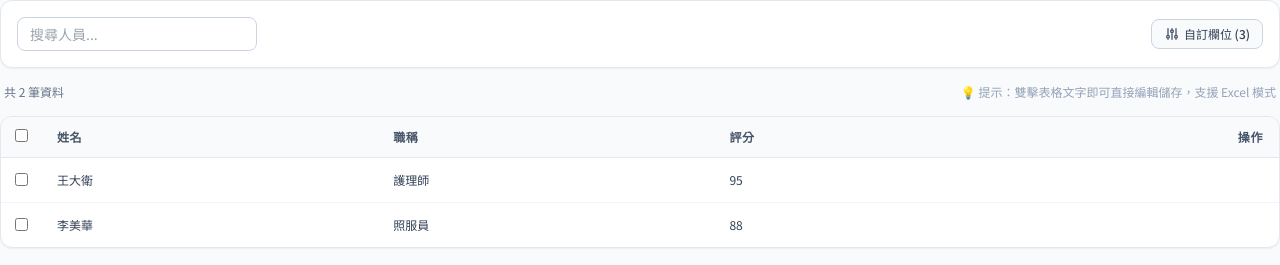
Test: FrontlineDataGrid (現場低代碼通用試算表元件) › 支援關鍵字搜尋過濾
Type "李美華" into the field with placeholder "搜尋人員..." at x=137, y=34, box [17,17,257,51]
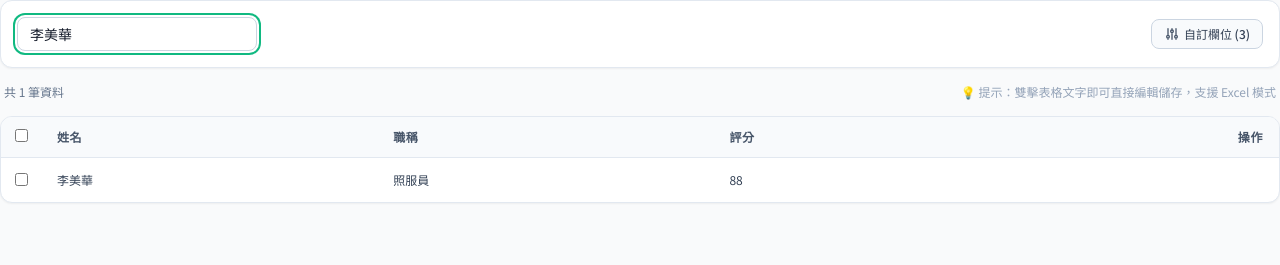
expect the text "李美華" is shown: met, box [57,171,93,188]
expect the text "王大衛" is gone: met
